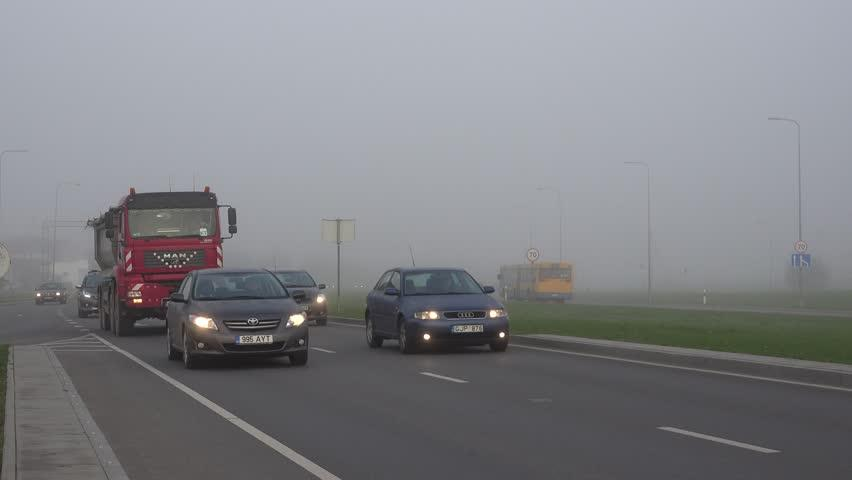bus: (87, 185, 240, 338), (496, 261, 575, 306)
car: (163, 266, 311, 371), (363, 265, 512, 354), (245, 268, 329, 326), (75, 269, 127, 321), (33, 280, 68, 307)
